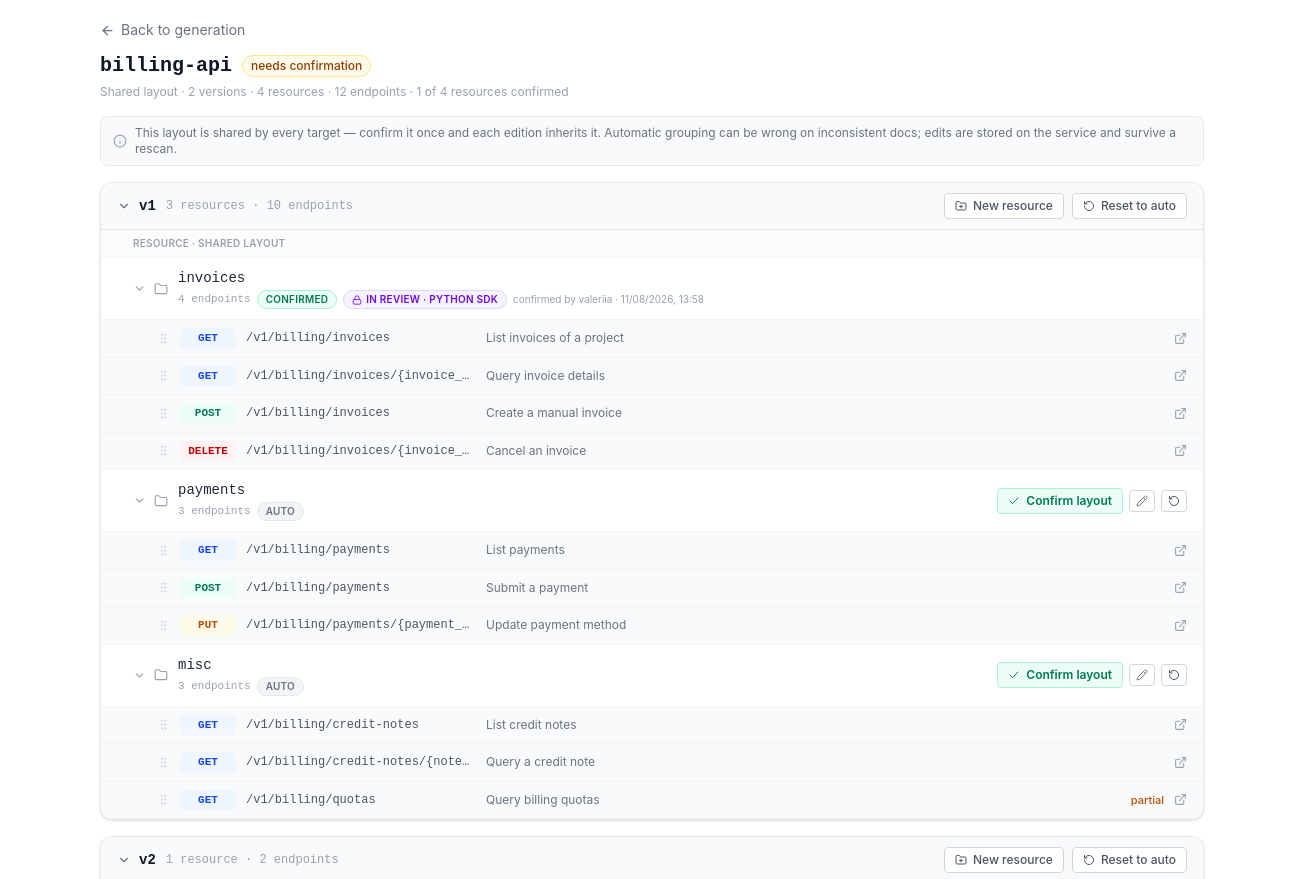
Scenario: the billing-api layout on the in-memory mock › makes an empty resource at the end of its version, which nobody has confirmed
Expected: the heading "billing-api" is shown, top-left (100, 52), bottom-right (232, 80)
Click the button "New resource" in the row of "10 endpoints" at x=1004, y=206, box top-left (944, 193), bottom-right (1064, 219)
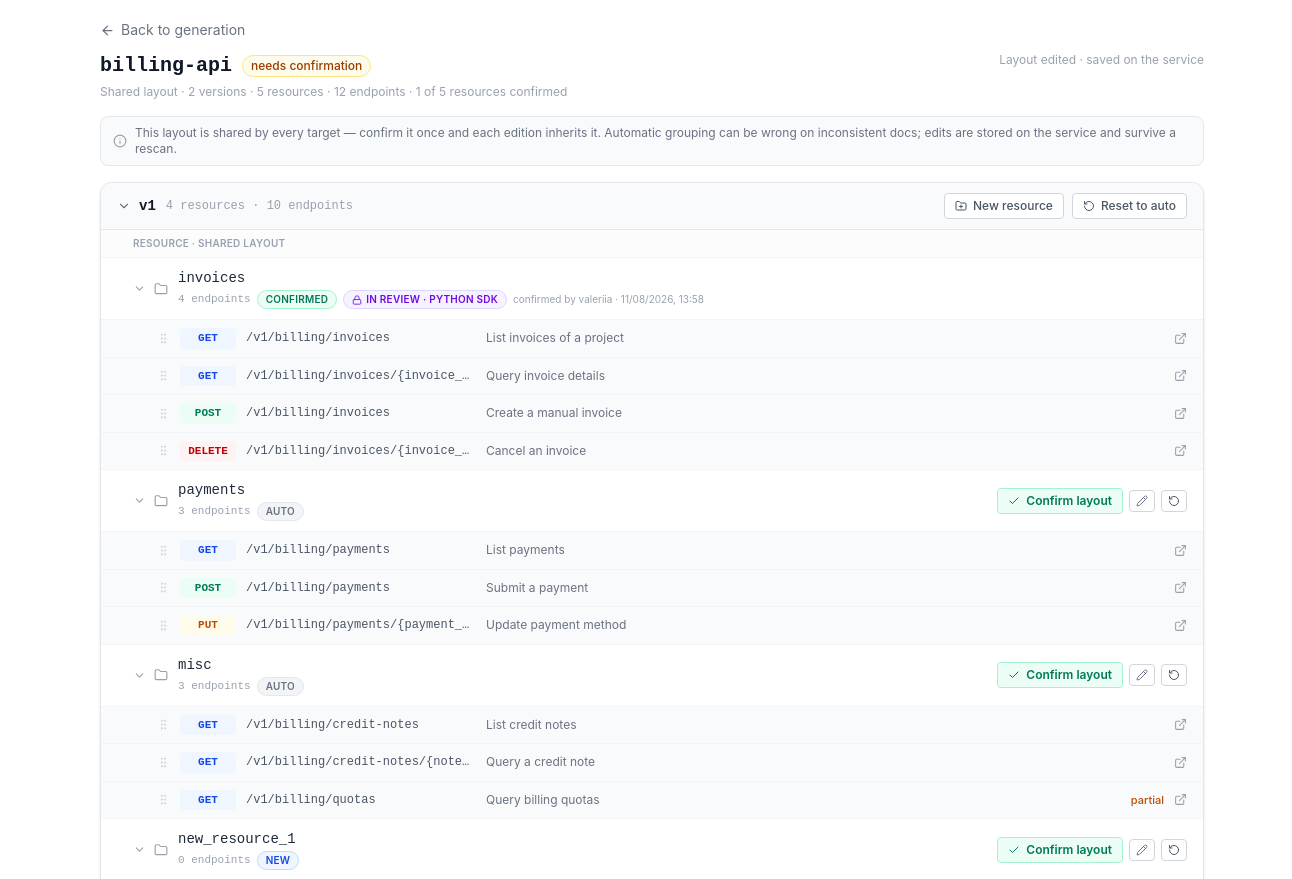
Now the text "0 endpoints" is shown, box top-left (178, 852), bottom-right (251, 869)
Now the text "new" is shown, box top-left (257, 851), bottom-right (299, 870)
Now the button "Confirm layout" in the row of "new_resource_1" is shown, box top-left (997, 836), bottom-right (1123, 862)
Click the button "New resource" at x=1004, y=206, box top-left (944, 193), bottom-right (1064, 219)
(page scrolled)
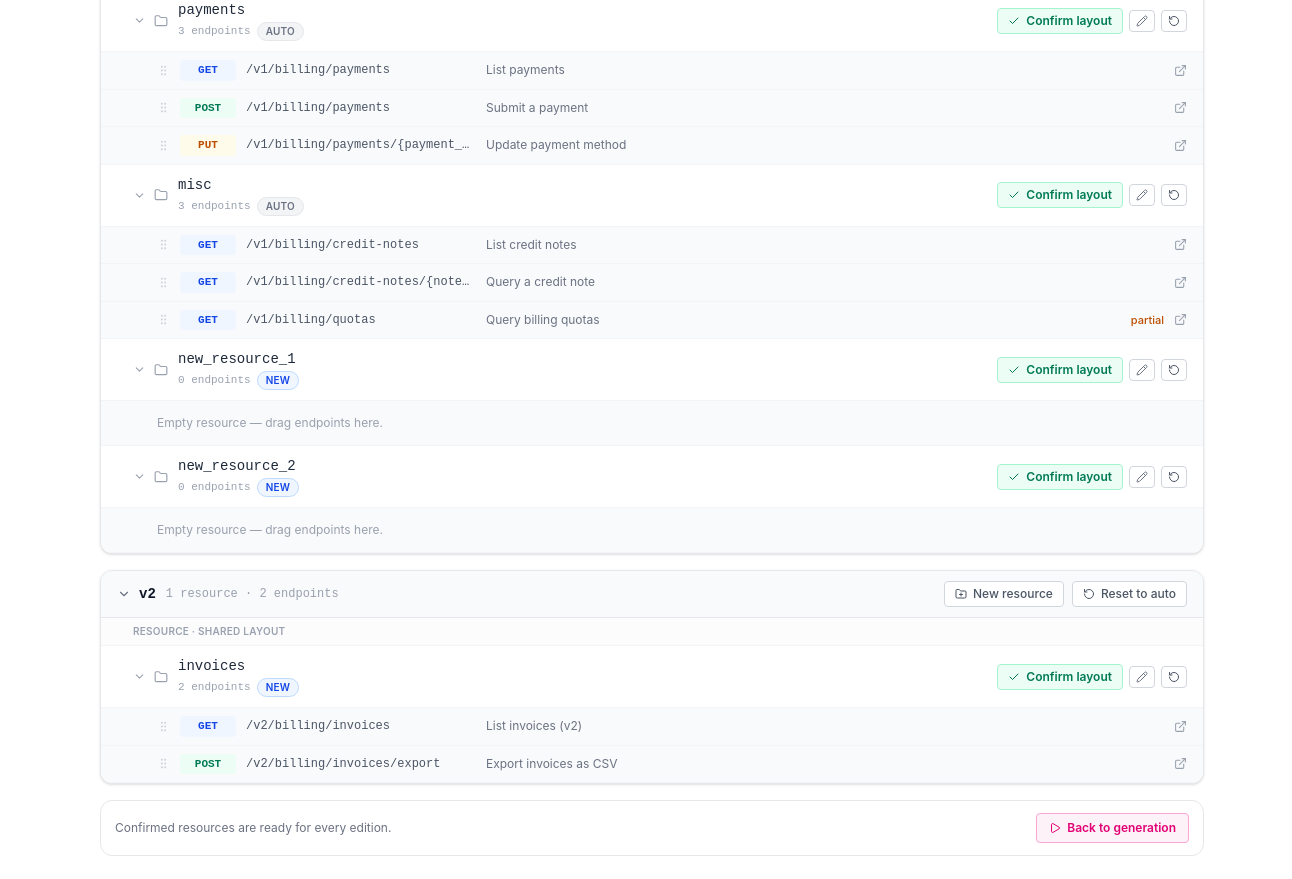
Now the element "new_resource_2" is shown, box top-left (101, 446), bottom-right (1203, 553)
